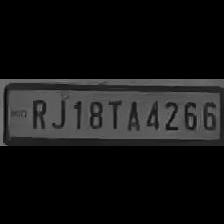1: (68, 95, 84, 129)
2: (160, 96, 178, 130)
4: (142, 96, 160, 130)
6: (178, 96, 198, 130), (198, 96, 218, 130)
8: (83, 95, 105, 129)
A: (122, 96, 142, 130)
J: (50, 93, 68, 129)
R: (26, 94, 48, 130)
T: (105, 95, 124, 129)
